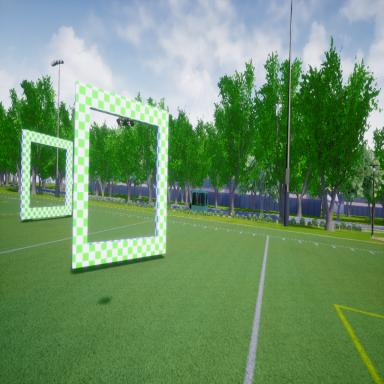gate: (74, 73, 168, 269), (17, 123, 73, 227)
